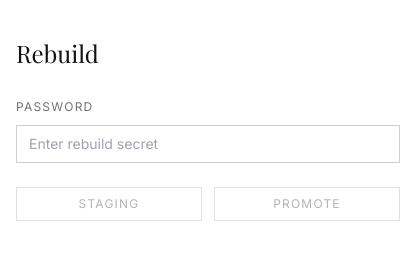
Test: RebuildPage › shows error when response body is not valid JSON
Type "mysecret" into the password field labelled "Password". click: (208, 144)
box: left=16, top=125, right=400, bottom=163
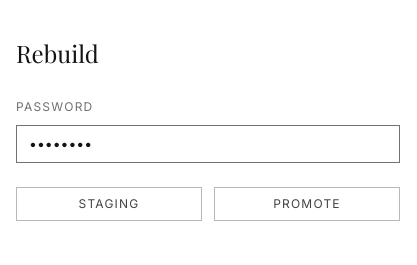
Click the button "Staging". click: (109, 204)
box: left=16, top=187, right=202, bottom=221
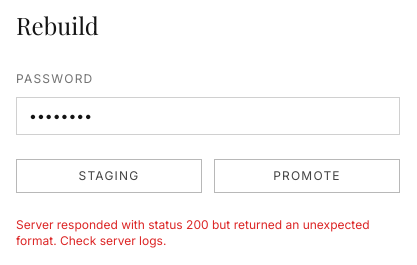
Expected: the text "unexpected format" is shown, left=16, top=217, right=370, bottom=248
